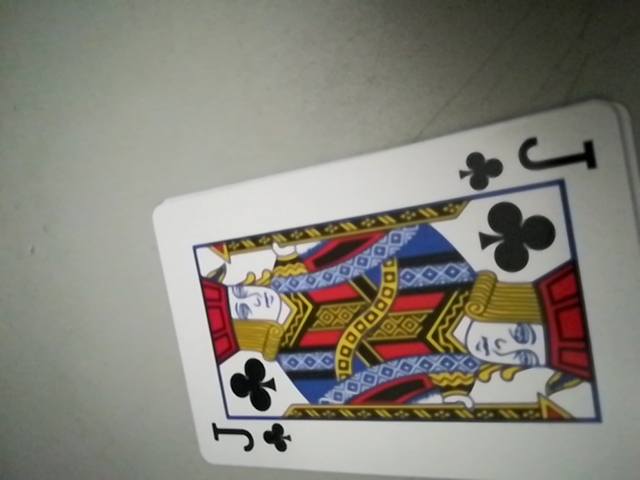mh j: (455, 126, 604, 193), (203, 412, 290, 463)
